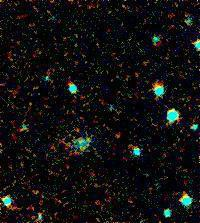star: (102, 121, 132, 151)
